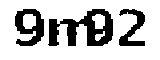2: (116, 4, 152, 54)
9: (10, 5, 44, 51), (93, 6, 115, 50)
m: (45, 13, 94, 51)
